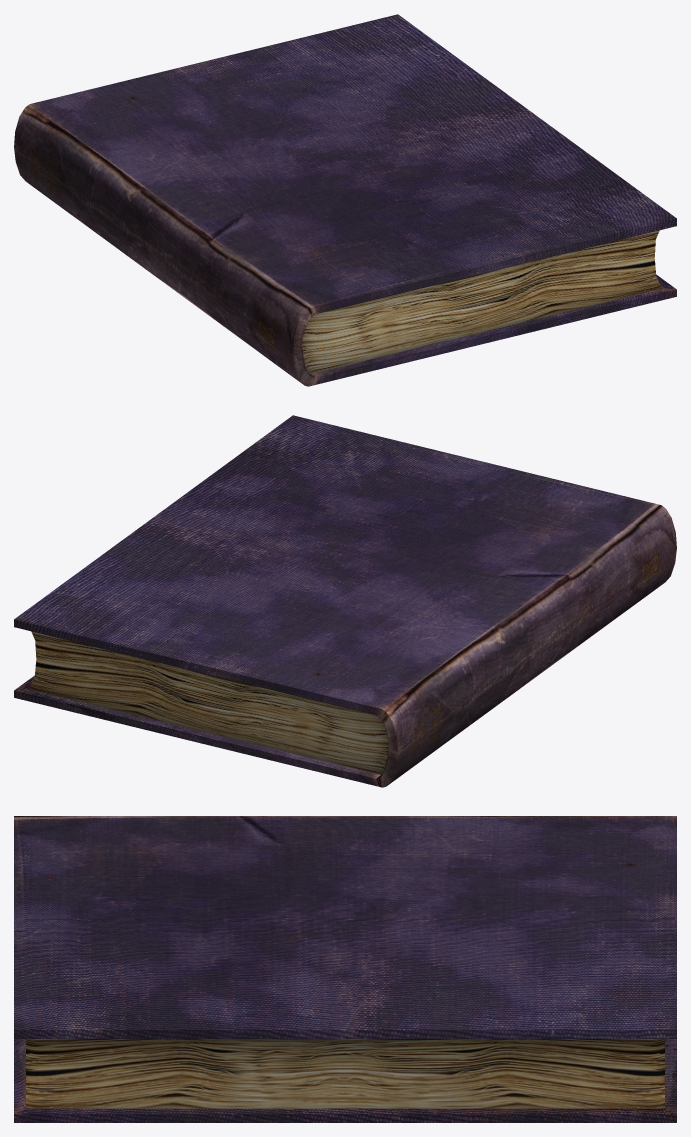
File: book.glb
3 renders of one model, top to bottom at view 1: azimuth 30°, elevation 25°; view 2: azimuth 150°, elevation 25°; view 3: azimuth 270°, elevation 25°, orthographic. The views are drawn at different scales.
Visible parts, largest first — view 1: Object_2; view 2: Object_2; view 3: Object_2.
Boxes of the visible parts, x1,y1,x2,y2 form: Object_2: (14, 14, 676, 386); Object_2: (14, 415, 676, 787); Object_2: (14, 816, 676, 1122).
Size of the model in its own units: 103 by 20.11 by 130.
Materials: 1 (1 with a texture image).
